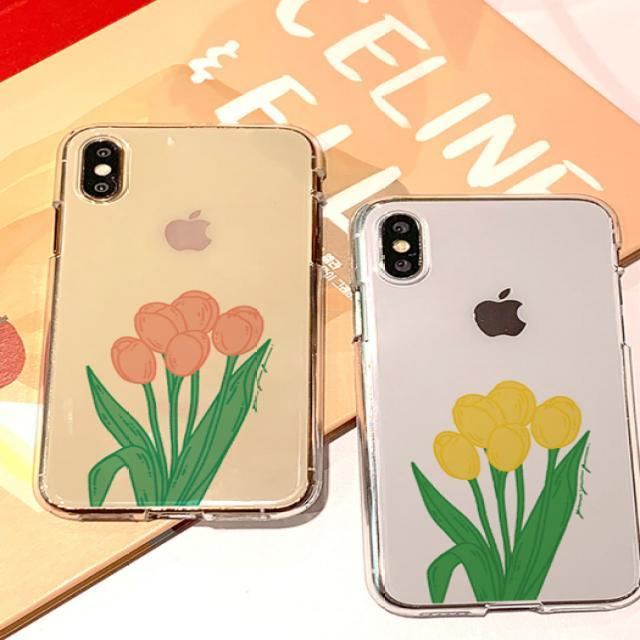phone: (352, 193, 640, 616), (33, 125, 324, 526)
